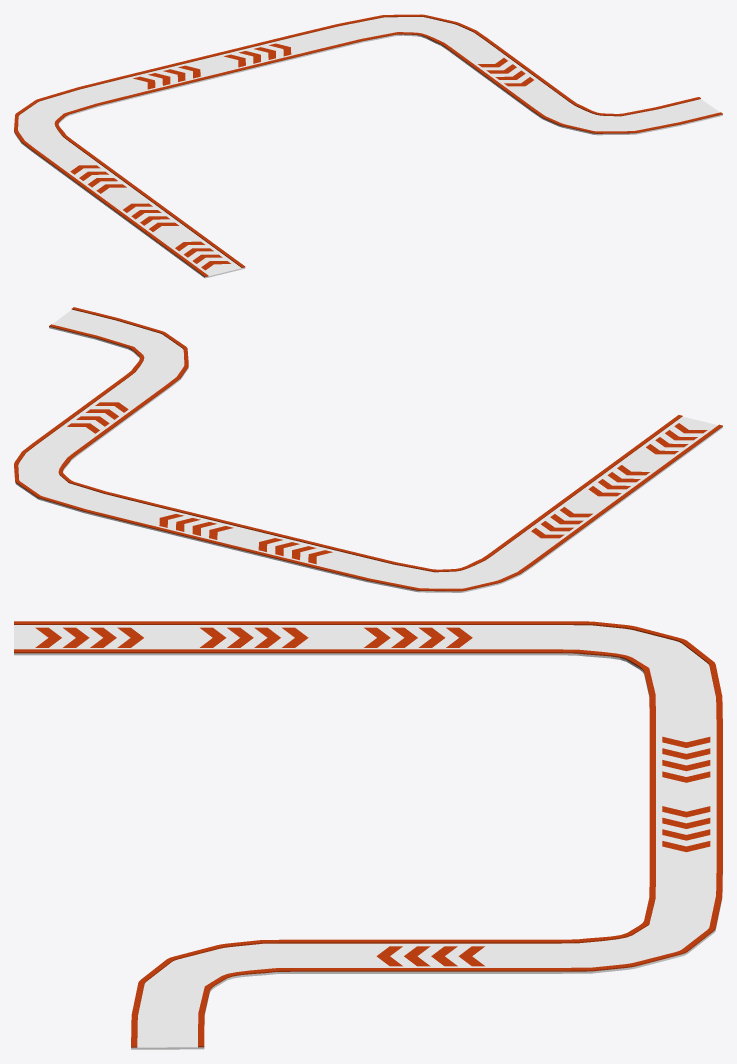
File: Map1.fbx
3 renders of one model, top to bottom at view 1: azimuth 30°, elevation 25°; view 2: azimuth 150°, elevation 25°; view 3: azimuth 270°, elevation 25°, orthographic. The views are drawn at different scales.
Parts seen in each view (by area): view 1: Platform4.004, Platform4.003, Platform5.003, Cube.025, Cube.024, Cube.008, Cube.023, Cube.022, Cube.026; view 2: Platform5.003, Platform4.003, Platform4.004, Cube.025, Cube.024, Cube.023, Cube.008, Cube.022, Cube.026; view 3: Platform4.003, Platform4.004, Platform5.003, Cube.022, Cube.008, Cube.023, Cube.026, Cube.025, Cube.024.
Part boxes in pixels (box(x1,y1,x2,y2)): Platform4.004: box(514, 88, 722, 135); Platform4.003: box(298, 14, 503, 61); Platform5.003: box(14, 77, 140, 163); Cube.025: box(207, 33, 320, 74); Cube.024: box(117, 55, 230, 96); Cube.008: box(152, 228, 245, 278); Cube.023: box(48, 151, 140, 201); Cube.022: box(100, 190, 192, 239); Cube.026: box(464, 50, 555, 98); Platform5.003: box(325, 540, 550, 592); Platform4.003: box(14, 429, 151, 523); Platform4.004: box(49, 307, 188, 401); Cube.025: box(126, 503, 250, 547); Cube.024: box(225, 527, 348, 571); Cube.023: box(507, 498, 608, 553); Cube.008: box(621, 415, 722, 469); Cube.022: box(564, 457, 665, 511); Cube.026: box(51, 387, 152, 441); Platform4.003: box(506, 865, 722, 973); Platform4.004: box(131, 939, 342, 1049); Platform5.003: box(506, 621, 722, 728); Cube.022: box(178, 621, 342, 655); Cube.008: box(14, 621, 178, 655); Cube.023: box(342, 621, 506, 655); Cube.026: box(342, 939, 506, 973); Cube.025: box(649, 796, 722, 866); Cube.024: box(649, 726, 722, 796).
Bounding box in the file's own units: 15717 × 56 × 11071.
